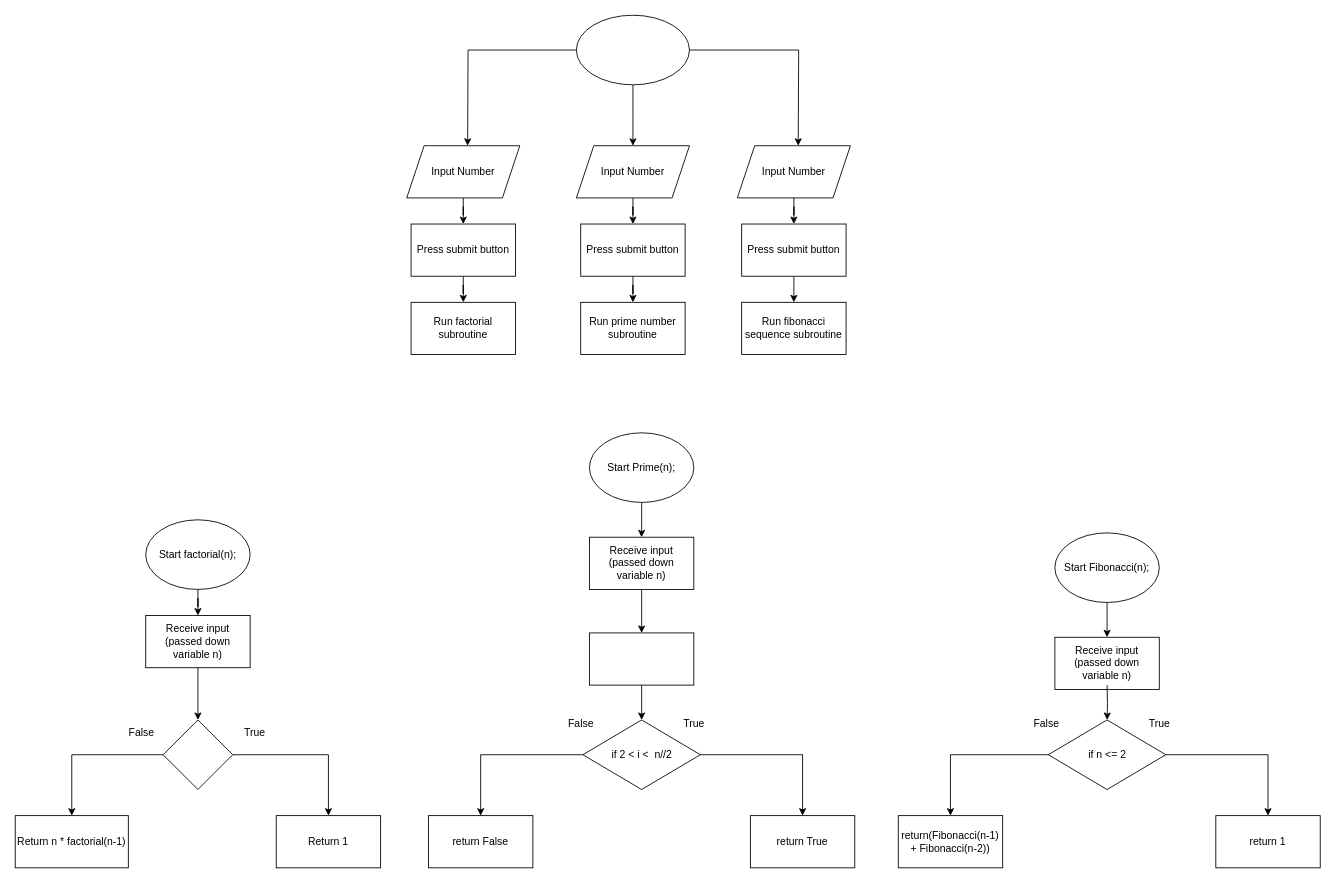
The diagram is 1335 pixels wide and 883 high, and some of its shapes have lost their labels. Each missing label, with the centre of its shape:
"int i = 0" goes at pixel 641 658.
"n == 1" goes at pixel 197 754.
"Start" goes at pixel 632 49.
